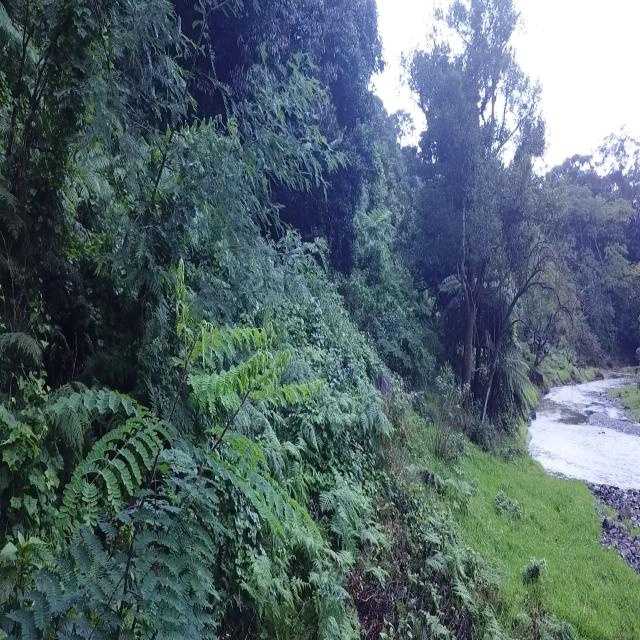Mysore-Thorn-Weed: (0, 295, 343, 630)
